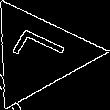L_SE: (5, 28, 72, 79)
